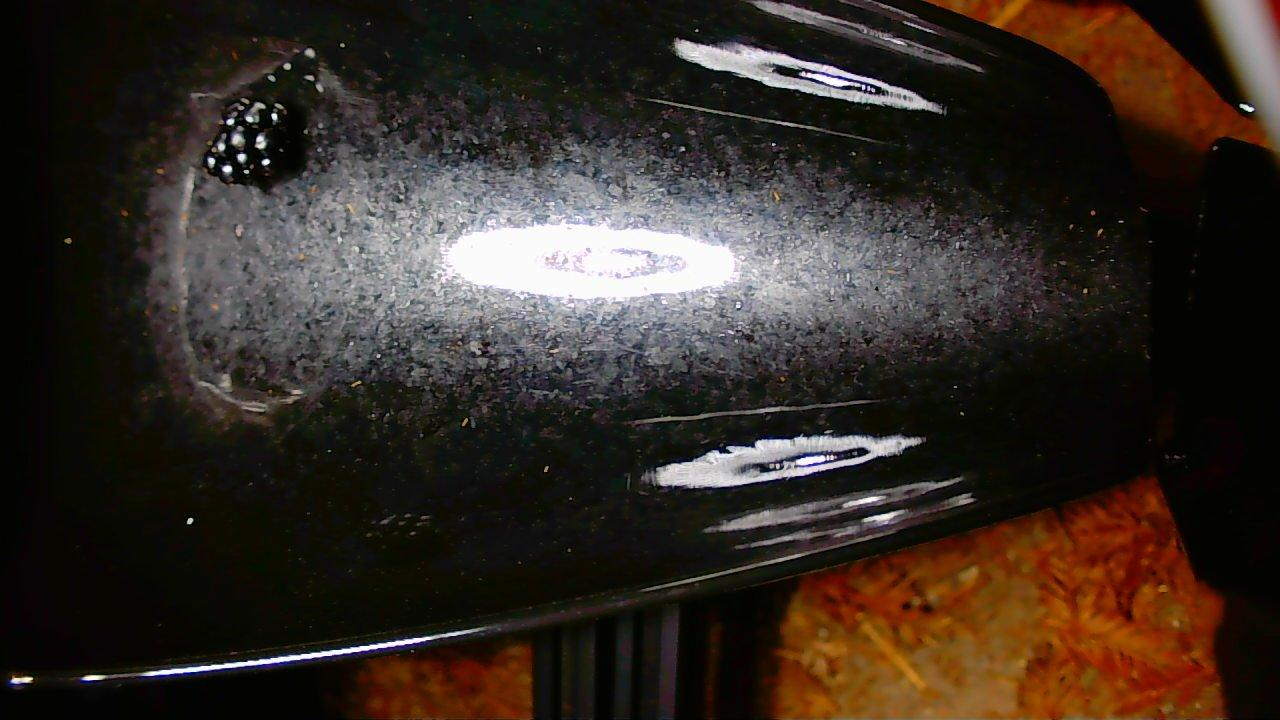berry: (205, 98, 287, 183)
